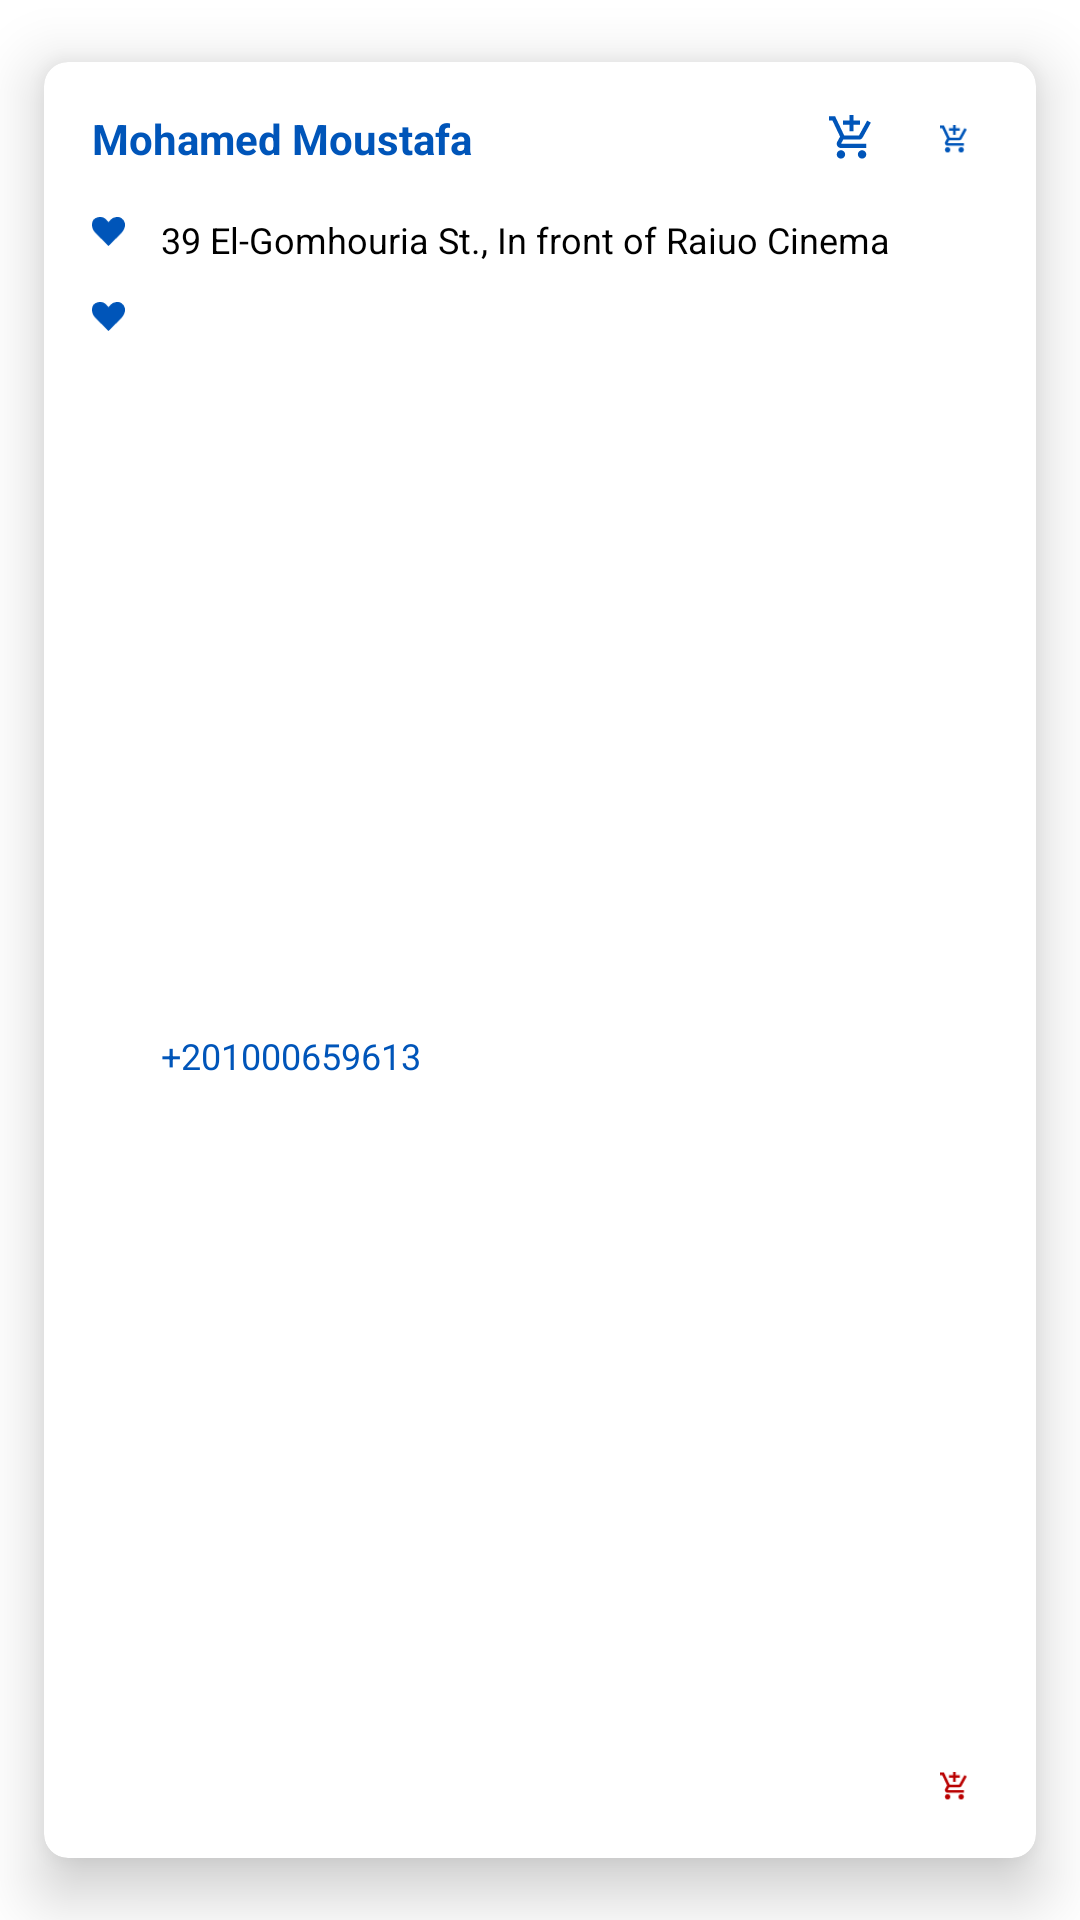

Icon bounding boxes for this 1080*1920 phone screenshot, format (x1, y1, x2, y2):
add tocart: (829, 115, 871, 159), (940, 125, 967, 153), (940, 1772, 967, 1800)
fav: (92, 217, 125, 246), (92, 302, 125, 331)
